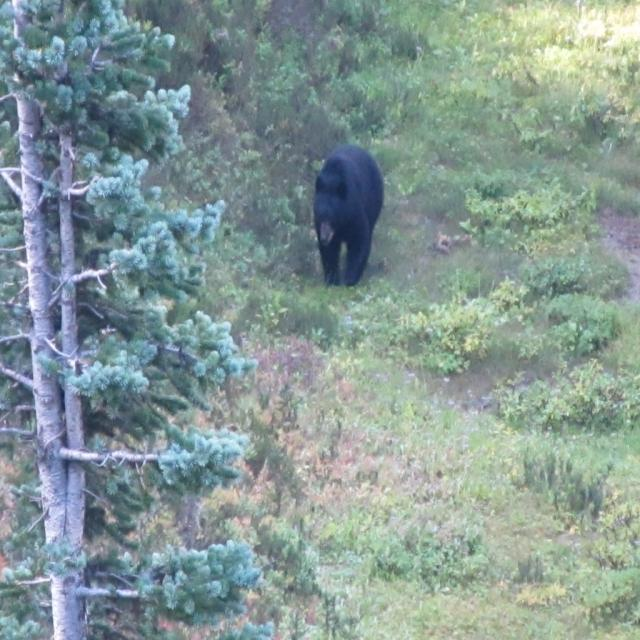Buffalo: (312, 143, 384, 287)
